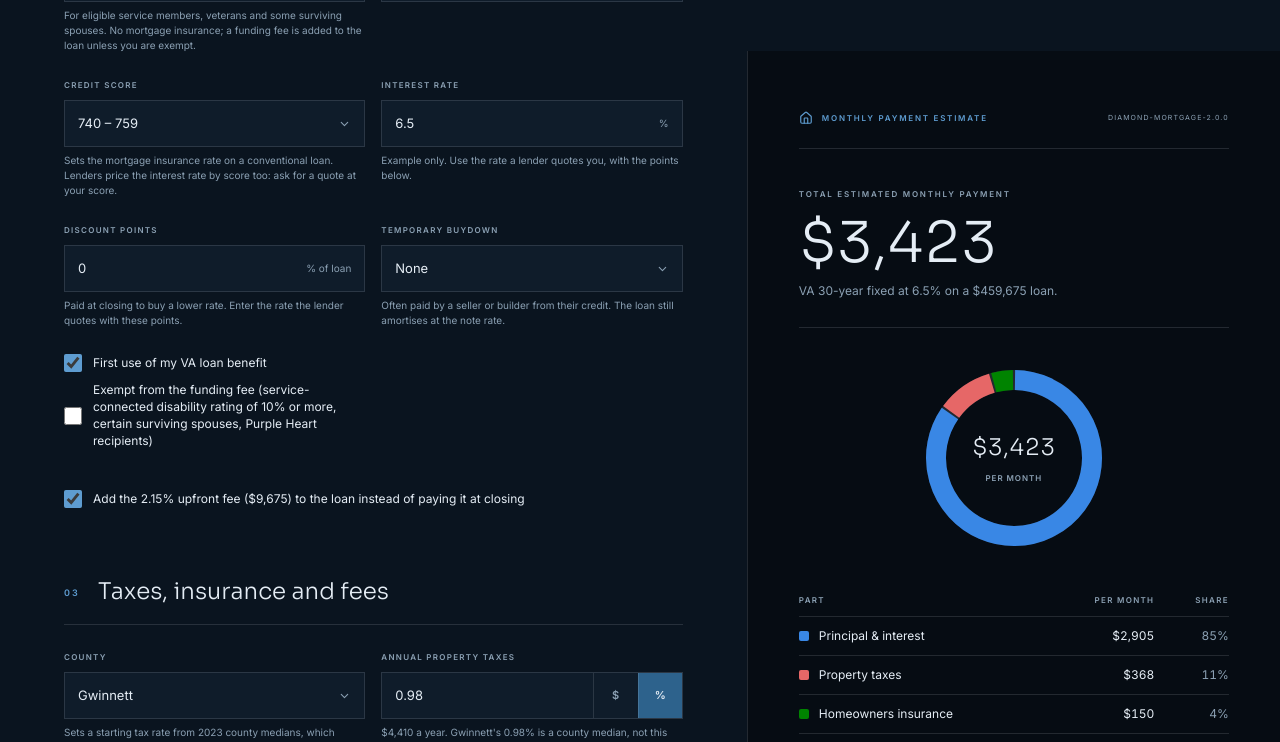
it: VA has no mortgage insurance, and the funding fee follows use and exemption
This screenshot has width=1280, height=742.
Later steps or results of the test are not shown.
(page scrolled)
Click the checkbox labelled "First use of my VA loan benefit". click: (73, 363)
box: top-left (64, 354), bottom-right (82, 372)
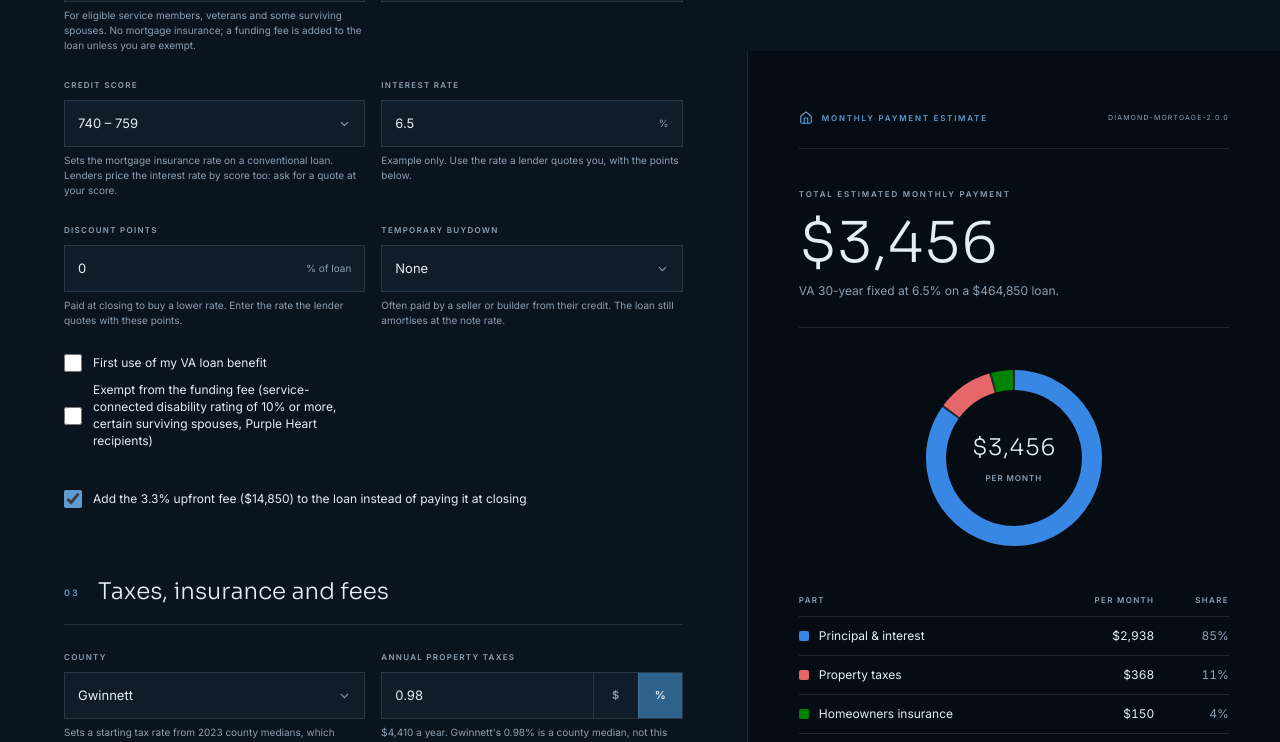
Now the text "Add the 3.3% upfront fee ($14,850) to the loan" is shown, box top-left (93, 491), bottom-right (526, 508)
